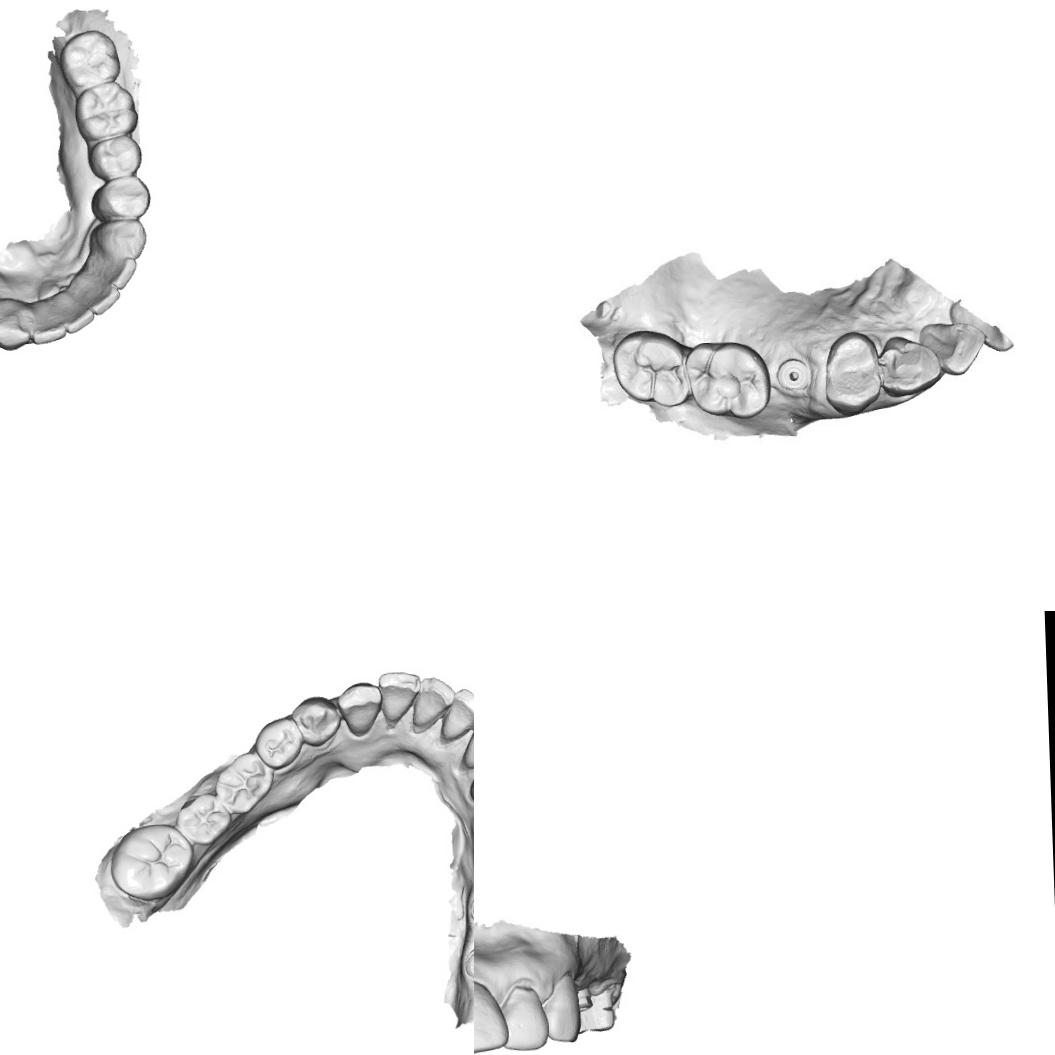canine: (880, 334, 942, 398), (538, 969, 582, 1048), (335, 679, 383, 738), (91, 216, 148, 262), (0, 297, 32, 353)
implant: (774, 356, 813, 398), (572, 980, 598, 1012)
implant_minus: (461, 945, 474, 985)
incisor: (497, 978, 550, 1054), (920, 321, 988, 376), (474, 976, 508, 1055), (376, 668, 422, 725), (410, 674, 457, 729), (27, 297, 69, 347), (52, 290, 96, 336), (439, 685, 474, 742), (76, 277, 123, 318), (88, 255, 140, 292), (459, 717, 474, 770)
molar: (108, 821, 196, 904), (611, 327, 690, 411), (684, 340, 770, 416), (72, 78, 140, 146), (55, 27, 122, 94), (214, 749, 276, 816), (174, 791, 235, 848)
premolar: (820, 329, 882, 414), (253, 714, 305, 771), (289, 694, 342, 748), (87, 132, 144, 182), (92, 174, 151, 221)
